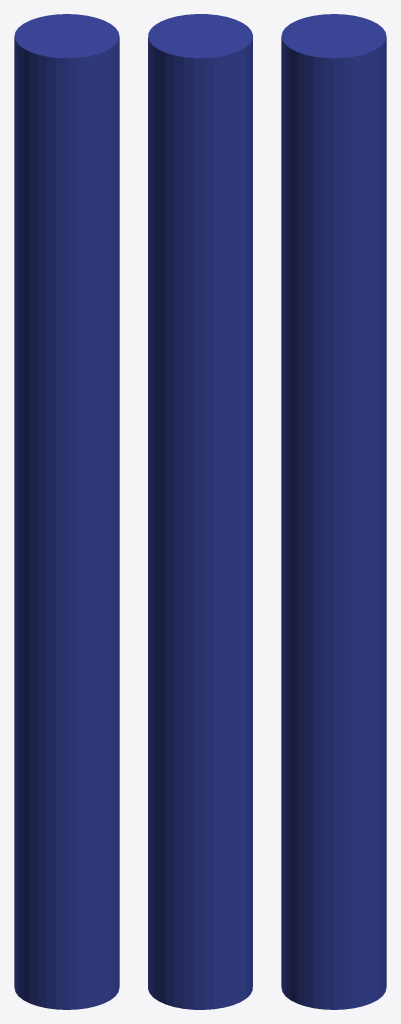
Rendered from Arrow_Z.obj.
3 views of the same model, side by side, from view 1: azimuth 90°, elevation 25°; view 2: azimuth 150°, elevation 25°; view 3: azimuth 270°, elevation 25° (orthographic).
Visible parts, largest first — view 1: Arrow_Y_Cylinder; view 2: Arrow_Y_Cylinder; view 3: Arrow_Y_Cylinder.
Part boxes in pixels (box(x1,y1,x2,y2)): Arrow_Y_Cylinder: box(14, 14, 119, 1009); Arrow_Y_Cylinder: box(148, 14, 252, 1009); Arrow_Y_Cylinder: box(281, 14, 386, 1009).
Bounding box in the file's own units: 0.1 × 1 × 0.1.
